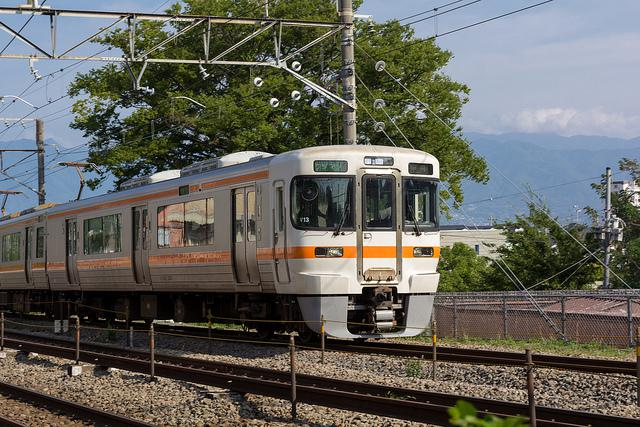Train: (0, 145, 439, 345)
